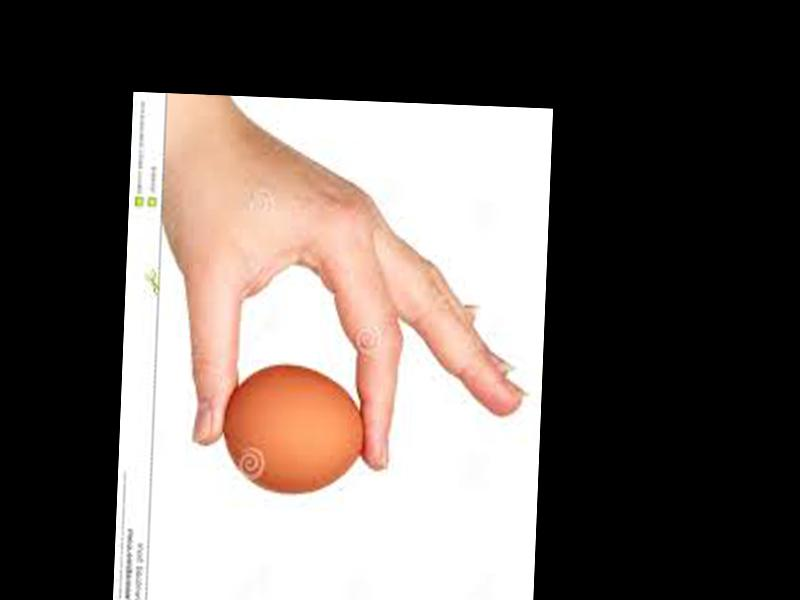Eggs: (219, 360, 367, 498)
